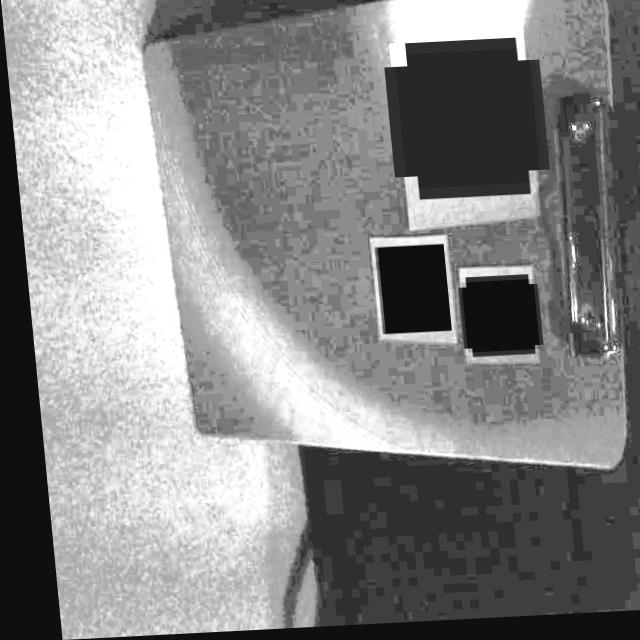qr_code: (392, 54, 536, 193), (369, 249, 443, 338), (454, 285, 531, 357)
